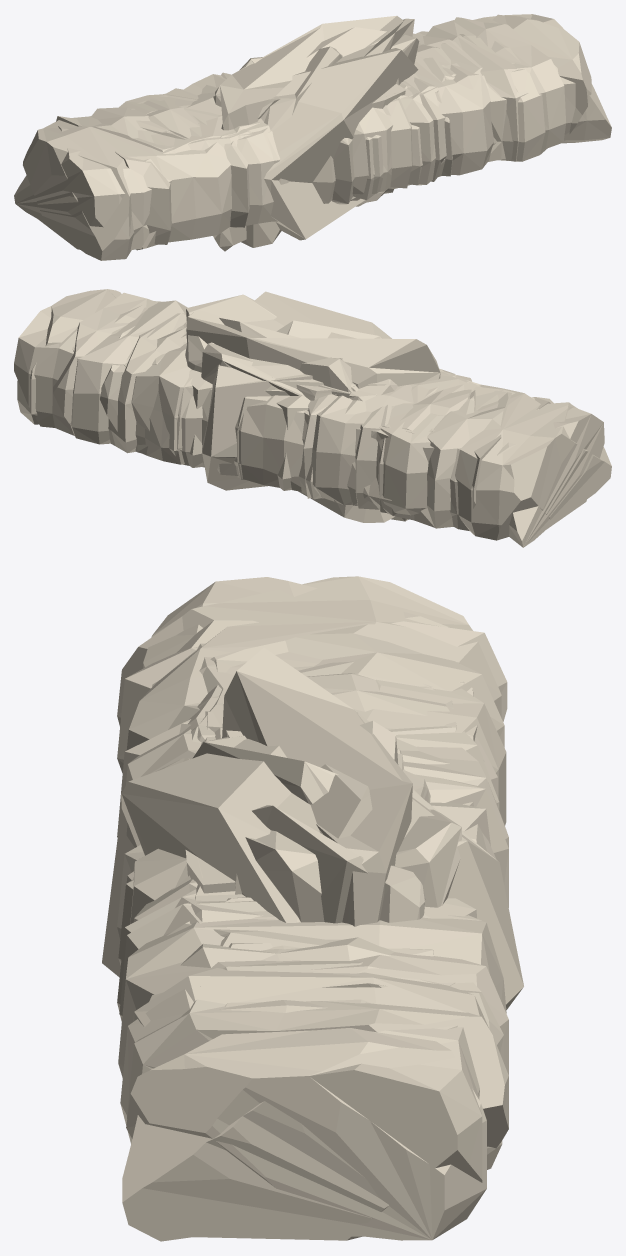
Rendered from common-100.glb.
3 views of the same model, one above another, from view 1: azimuth 30°, elevation 25°; view 2: azimuth 150°, elevation 25°; view 3: azimuth 270°, elevation 25° (orthographic). The views are drawn at different scales.
Visible parts, largest first — view 1: LINTEL_005, LINTEL_006, LARGE_010, LINTEL_004, LINTEL_003, LINTEL_002, LARGE_009, LINTEL_001, LARGE_004, LARGE_006, LARGE_002, MAIN_047; view 2: LINTEL_005, LINTEL_006, LINTEL_003, LINTEL_004, LARGE_009, LARGE_010, LINTEL_001, LINTEL_002, LARGE_002, LARGE_006, LARGE_004, LARGE_008 (+2 smaller); view 3: LINTEL_005, LINTEL_006, LINTEL_004, LARGE_010, LARGE_009, LINTEL_003, LINTEL_001, LINTEL_002, LARGE_006, LARGE_002, LARGE_008, LARGE_004 (+1 smaller).
Part boxes in pixels (x1,y1,x2,y2): LINTEL_005: (23,14,591,260); LINTEL_006: (14,14,611,249); LARGE_010: (257,48,418,240); LINTEL_004: (56,17,565,250); LINTEL_003: (115,36,515,244); LINTEL_002: (130,31,506,227); LARGE_009: (220,15,403,130); LINTEL_001: (144,33,500,227); LARGE_004: (213,46,342,247); LARGE_006: (306,27,419,203); LARGE_002: (213,18,414,251); MAIN_047: (372,84,405,108); LINTEL_005: (17,289,611,540); LINTEL_006: (14,301,604,547); LINTEL_003: (111,307,553,527); LINTEL_004: (53,292,511,528); LARGE_009: (186,310,440,388); LARGE_010: (202,291,391,490); LINTEL_001: (108,328,471,509); LINTEL_002: (100,326,475,513); LARGE_002: (185,294,408,521); LARGE_006: (219,318,394,522); LARGE_004: (237,320,397,477); LARGE_008: (201,342,305,396); LINTEL_005: (117,576,502,1240); LINTEL_006: (120,577,508,1241); LINTEL_004: (117,621,508,1148); LARGE_010: (102,738,523,1009); LARGE_009: (222,647,412,926); LINTEL_003: (117,620,506,1077); LINTEL_001: (117,673,508,1075); LINTEL_002: (117,661,508,1062); LARGE_006: (235,764,372,922); LARGE_002: (252,805,425,923); LARGE_008: (395,809,461,907); LARGE_004: (192,735,430,810).
Size of the model in its own units: 1.5 by 0.4875 by 0.5391.
